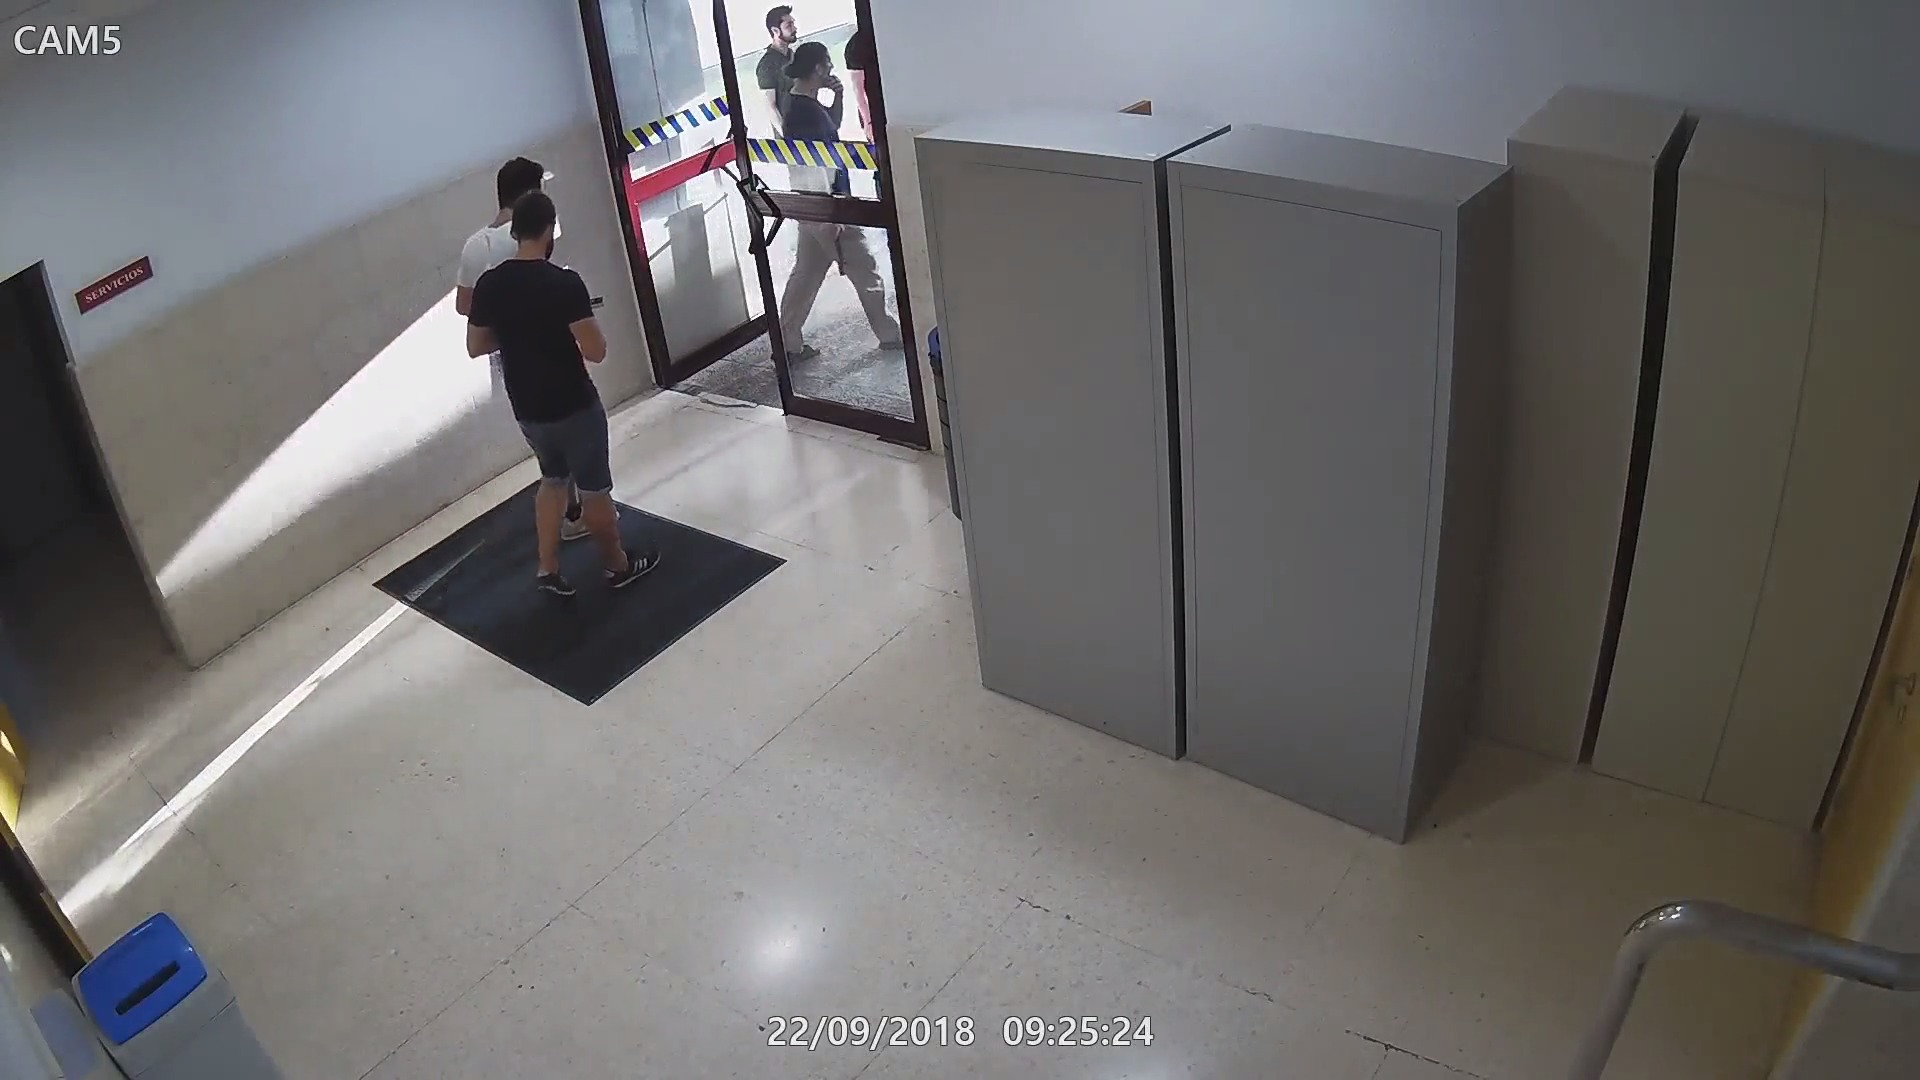Short_rifle: (829, 222, 857, 281)
